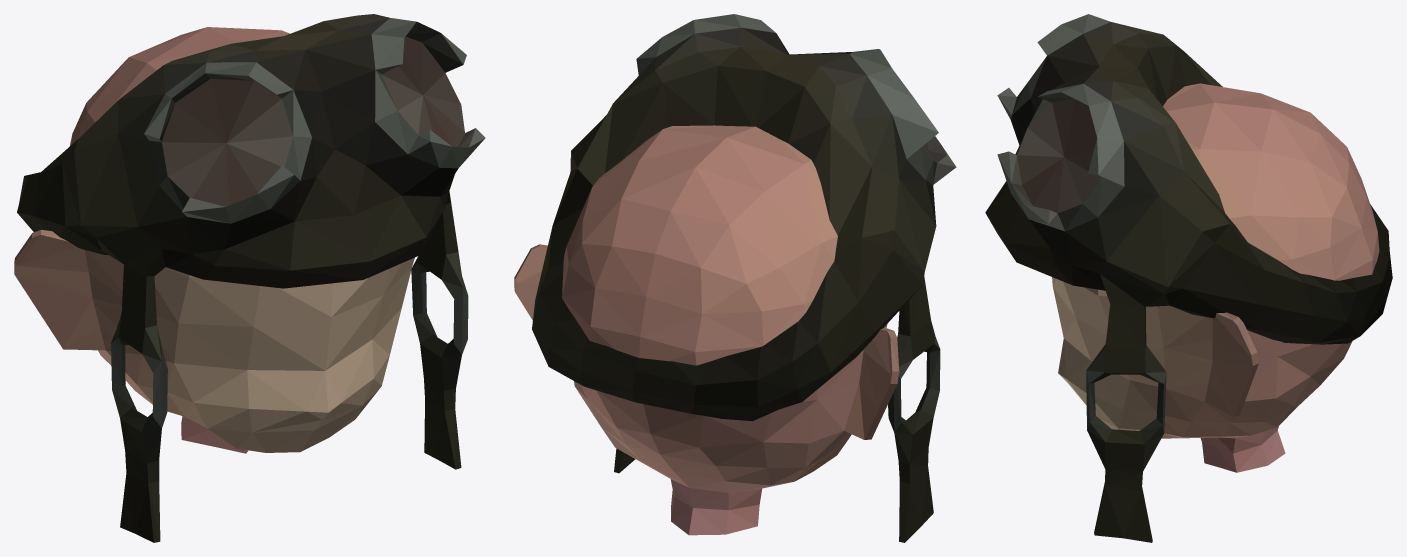
The model's file is helm_lightskin_bald_goggles.fbx.
The picture shows the model from 3 angles, left to right: view 1: azimuth 30°, elevation 25°; view 2: azimuth 150°, elevation 25°; view 3: azimuth 270°, elevation 25°; orthographic projection. The views are drawn at different scales.
Parts seen in each view (by area): view 1: helm_lightskin_bald_goggles; view 2: helm_lightskin_bald_goggles; view 3: helm_lightskin_bald_goggles.
Boxes of the visible parts, bbox=[...] form: helm_lightskin_bald_goggles: bbox=[14, 14, 485, 542]; helm_lightskin_bald_goggles: bbox=[514, 14, 956, 542]; helm_lightskin_bald_goggles: bbox=[985, 14, 1392, 542].
Size of the model in its own units: 1.12 by 1.23 by 1.09.
